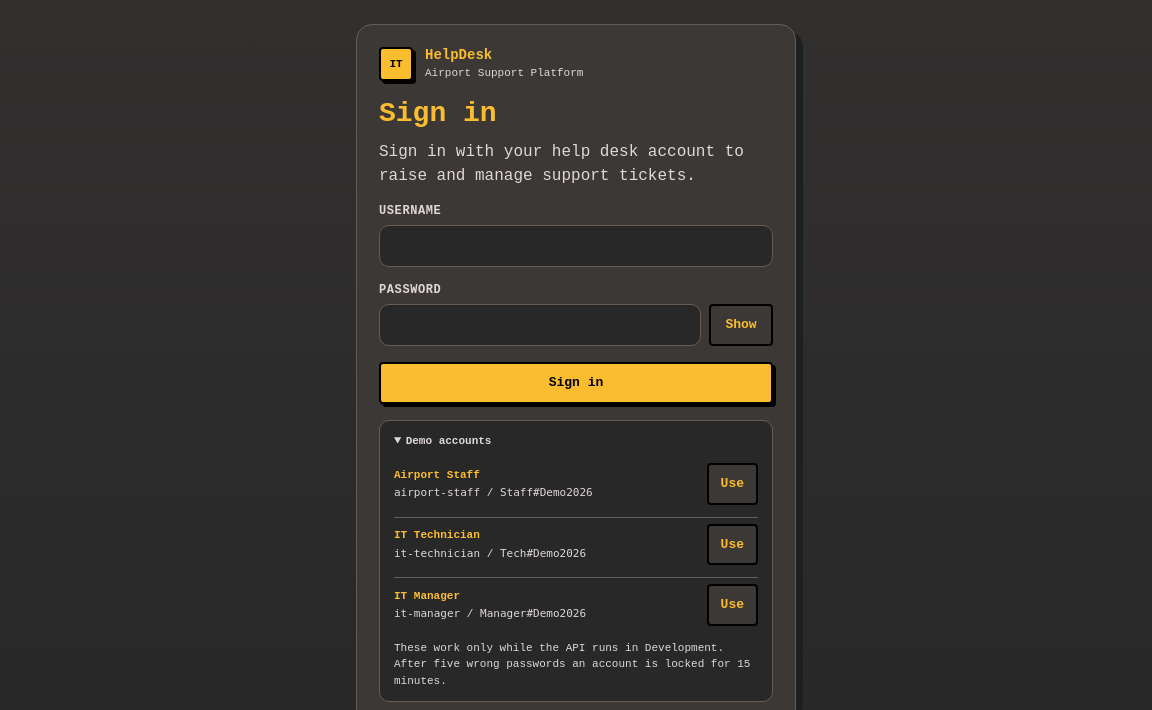
Test: Dashboard export — AC2 no ticket data › EXP-C05 with no tickets, a header-only file is still downloaded and reported as a success
The width and height of the screenshot is (1152, 710).
Type "it-manager" into the field labelled "Username". click: (576, 246)
box: [379,225,773,267]
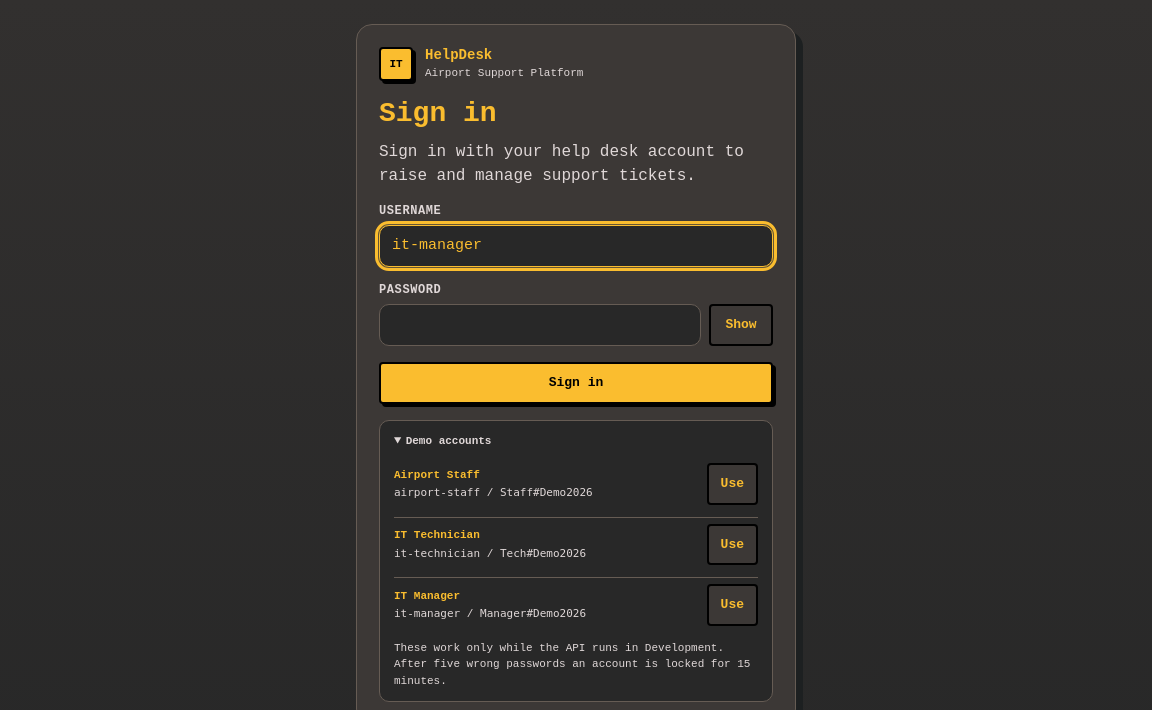
Type "any-password" into the password field labelled "Password". click: (540, 325)
box: [379,304,701,346]
Then press Enter
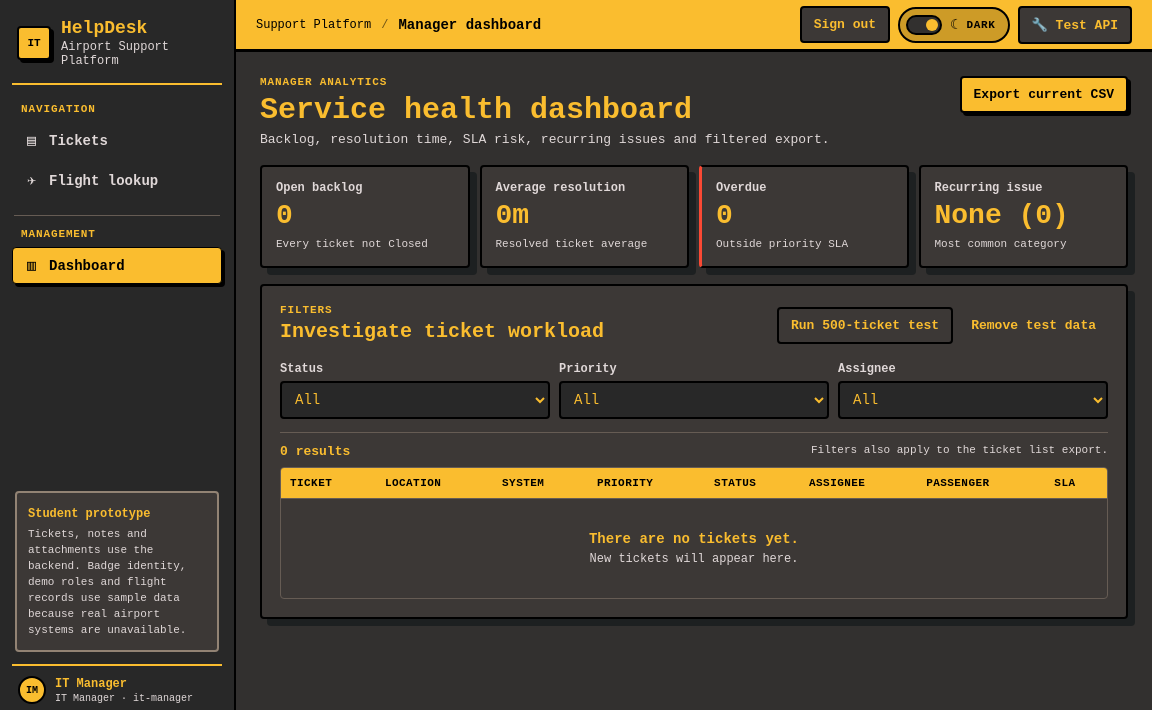
Result: the heading "Service health dashboard" is shown at [260,93,692,127]
Result: the text "There are no tickets yet." is shown at [589,531,799,547]
Click the button "Export current CSV". click: (1044, 94)
box: [960,76,1128,113]
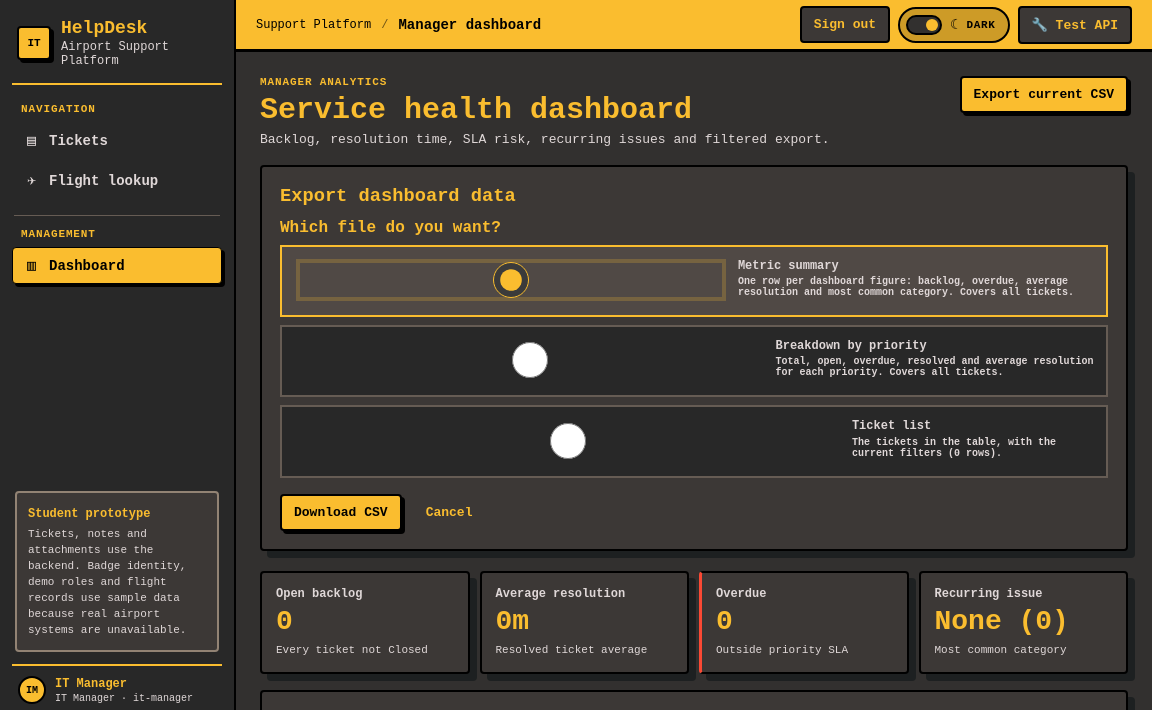
Click the radio button labelled "Ticket list". click: (568, 441)
box: [299,423,837,459]
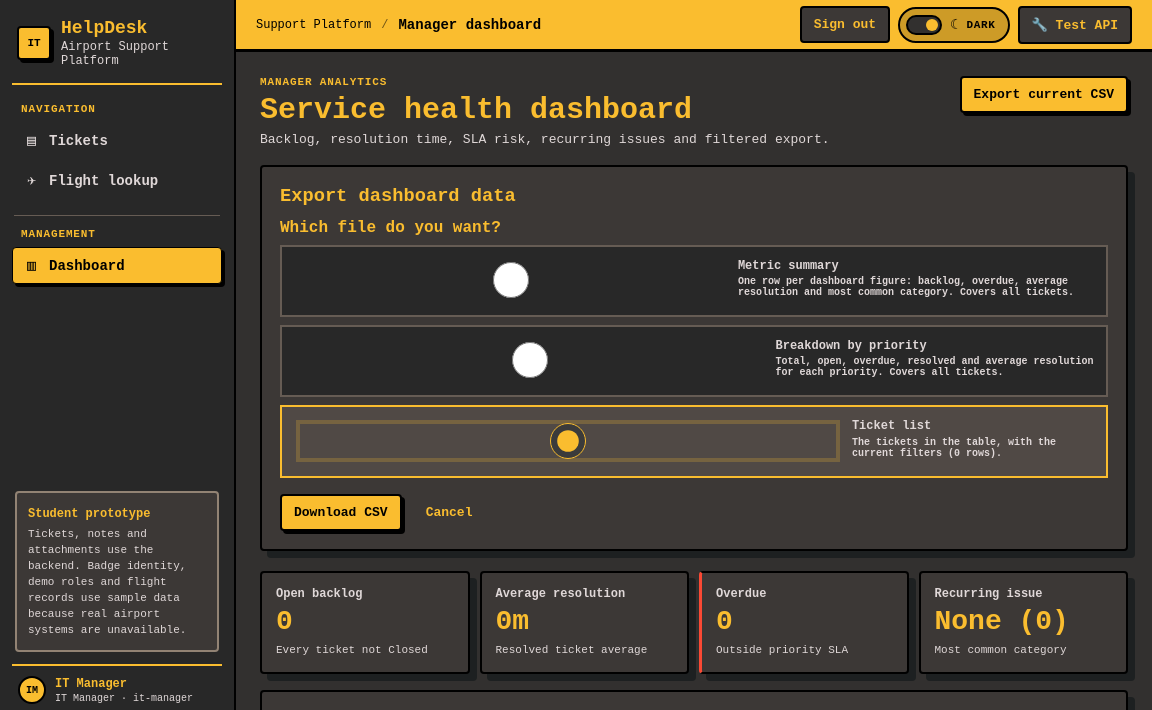
Click the button "Download CSV". click: (341, 512)
box: [280,494,402,531]
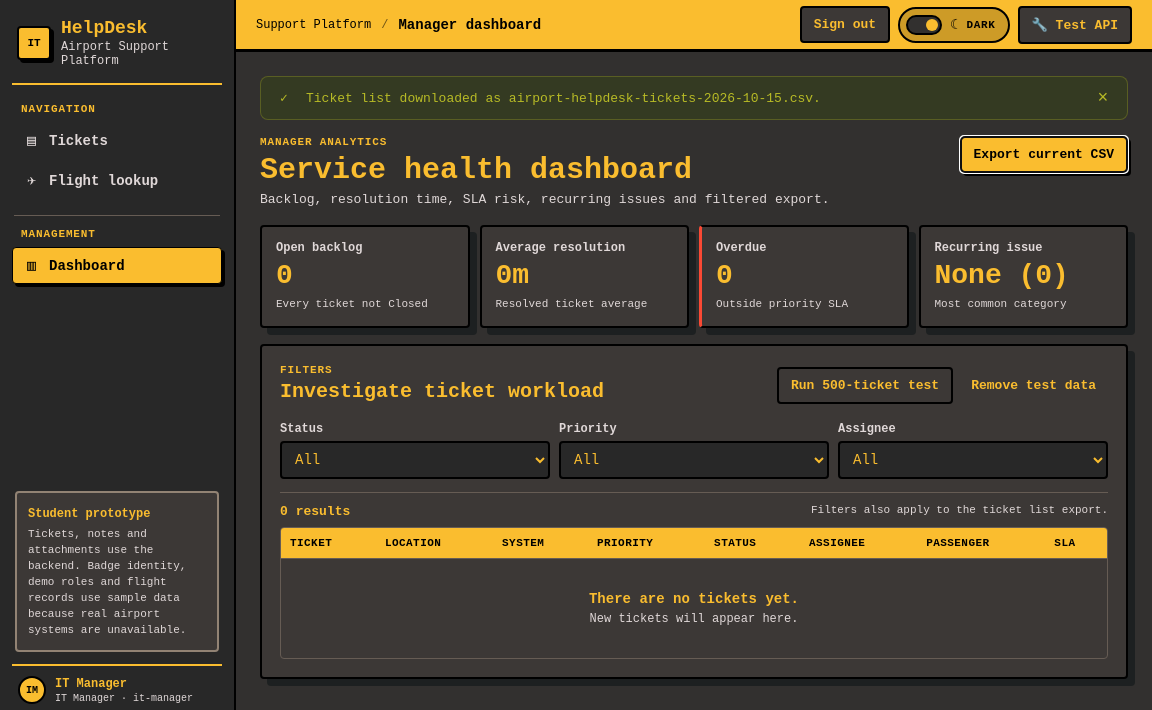
Result: the text "Ticket list downloaded" is shown at [306,90,821,106]
